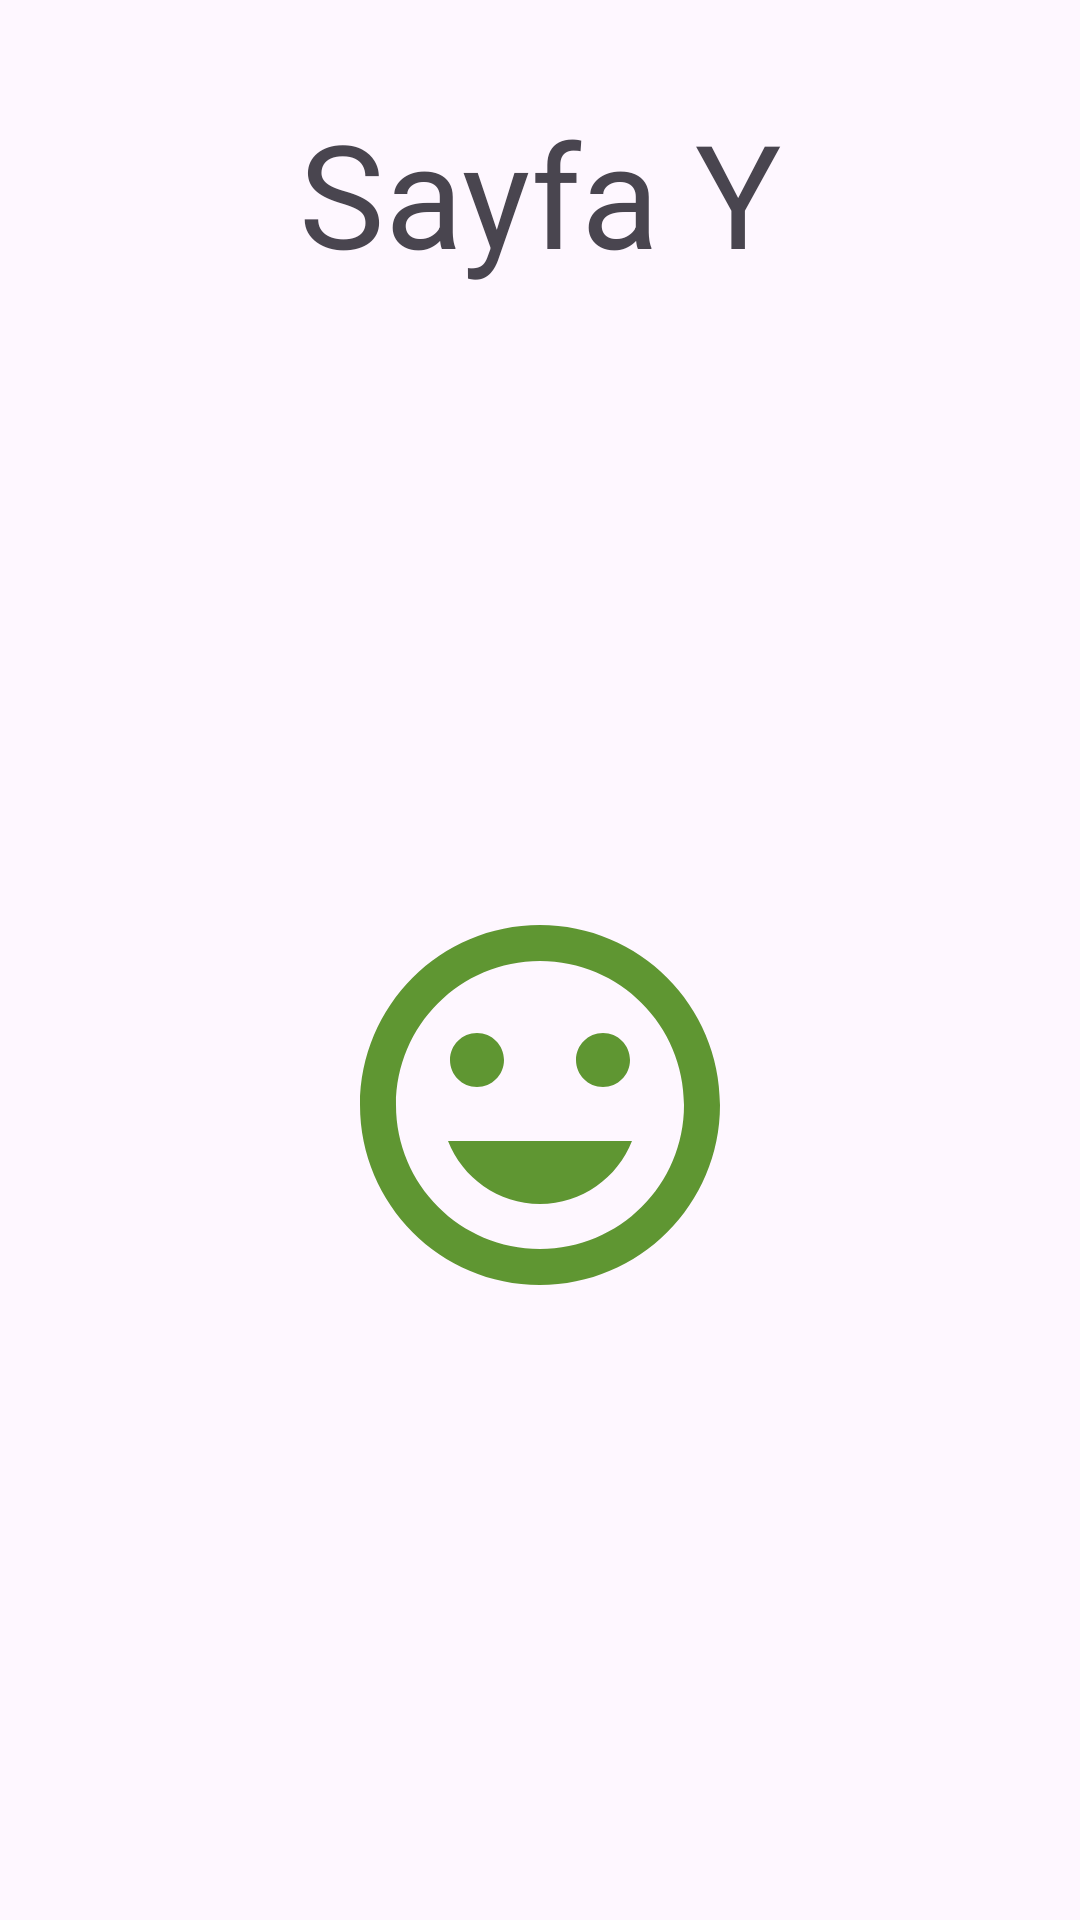

Named icons in this screenshot (1080 x 1920) and their bounding boxes, (left=x1, top=y1, right=x2, bottom=y2):
smiley face: (left=360, top=925, right=720, bottom=1285)
